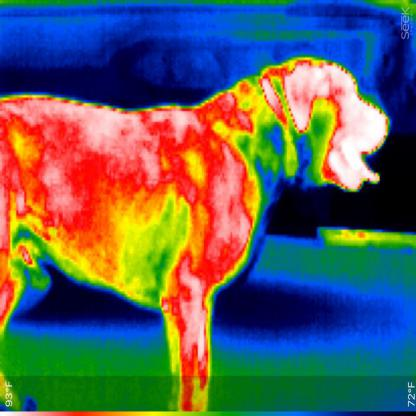dog: (0, 51, 392, 410)
